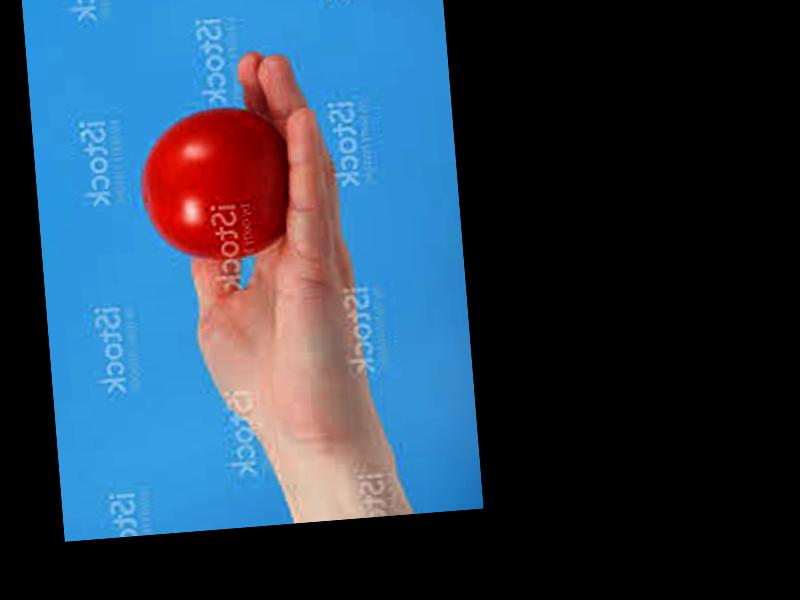Tomato: (139, 104, 293, 263)
